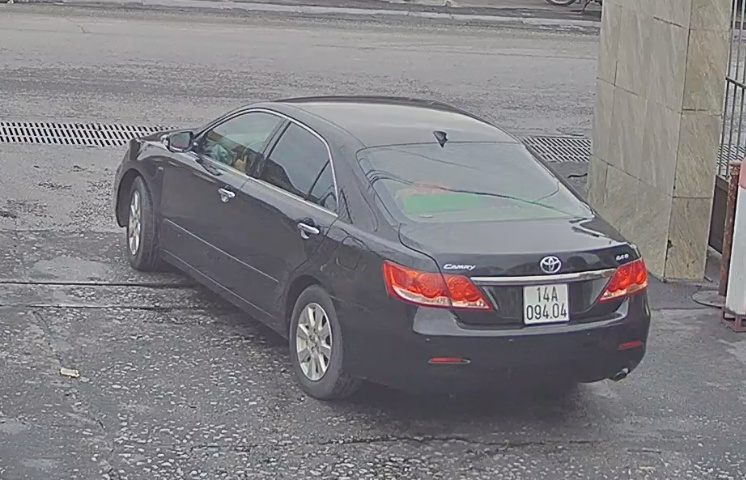vehicle plate: (519, 274, 575, 328)
